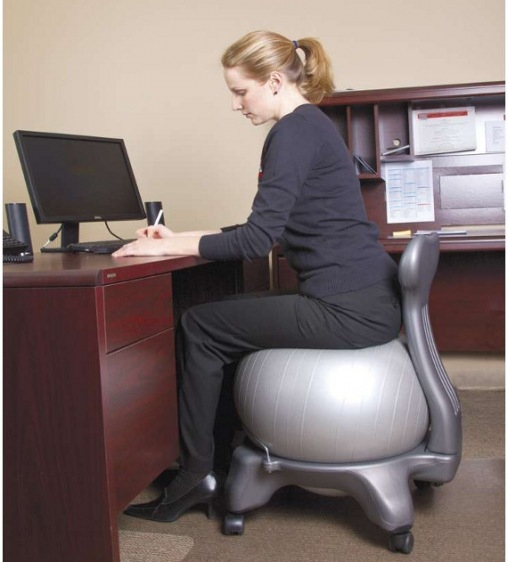yogaball: (236, 335, 435, 466)
